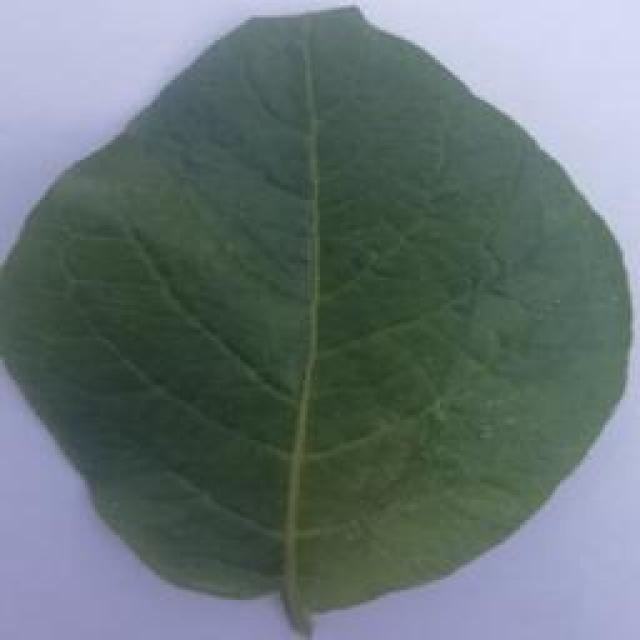Potato_Healthy: (2, 5, 622, 633)
